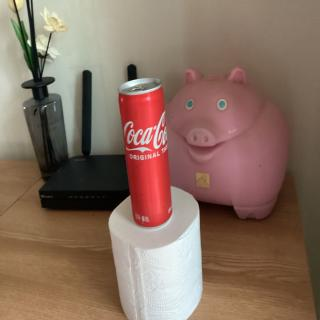cocacola: (114, 70, 174, 228)
